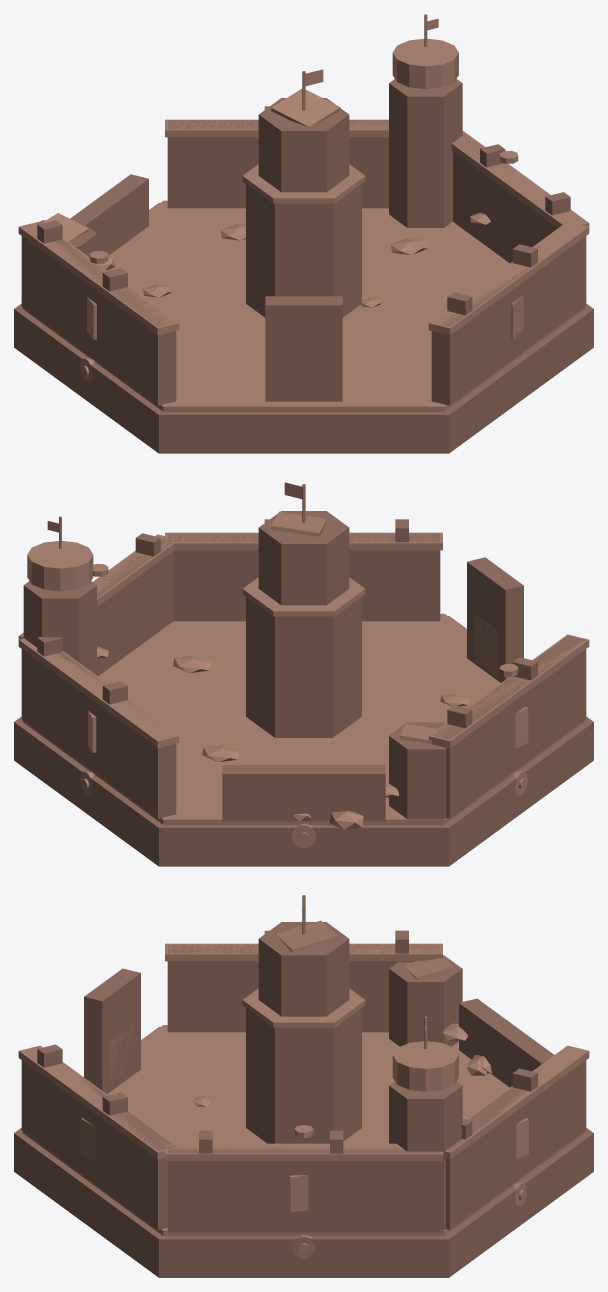
The model's file is bastion_s2_50.glb.
3 views of the same model, one above another, from view 1: azimuth 30°, elevation 25°; view 2: azimuth 150°, elevation 25°; view 3: azimuth 270°, elevation 25° (orthographic).
Visible parts, largest first — view 1: BS_Braz_0; view 2: BS_Braz_0; view 3: BS_Braz_0.
Part boxes in pixels (x1=…): BS_Braz_0: x1=14, y1=14, x2=593, y2=453; BS_Braz_0: x1=14, y1=482, x2=593, y2=866; BS_Braz_0: x1=14, y1=895, x2=593, y2=1277.
Size of the model in its own units: 5.25 by 3.15 by 6.
